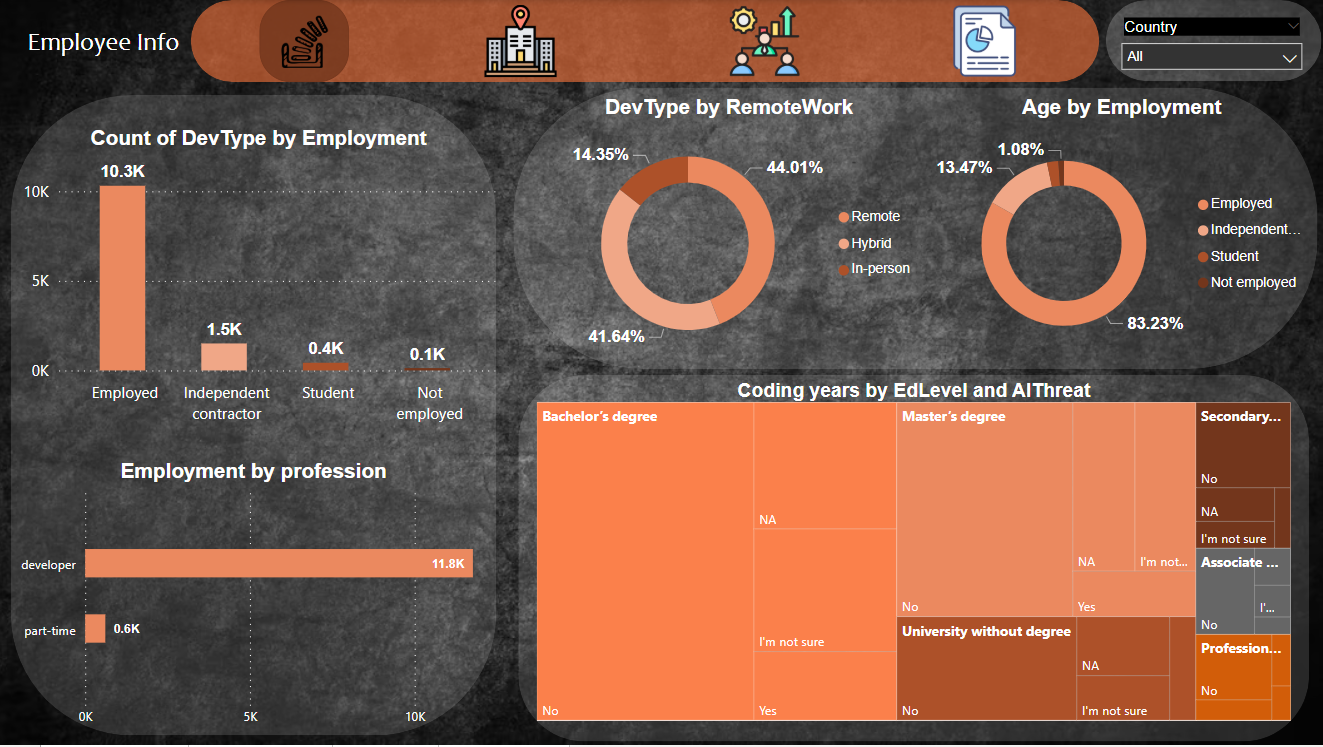

The page's visual inventory and layout, read from the dashboard file:
{"tool":"powerbi","page":{"name":"Employee info","canvas":[1280,720],"ordinal":0},"visuals":[{"type":"shape","box":[1070,0,208.3,78.3],"z":0,"group":"g1"},{"type":"shape","box":[503,362.2,763.1,353.5],"z":1000},{"type":"shape","box":[12.9,92,468.5,618],"z":2000},{"type":"shape","box":[497.7,84.8,776,271.6],"z":3000},{"type":"shape","box":[186.8,0,876.6,79],"z":4000},{"type":"image","box":[465.6,0,79,79],"z":5000},{"type":"image","box":[686.9,0,106.3,79],"z":6000},{"type":"image","box":[896.8,0,110.7,79],"z":7000},{"type":"image","box":[252.9,0,86.2,79],"z":8000},{"type":"donutChart","title":"DevType by RemoteWork","fields":{"Y":["CountNonNull(survey_results_public.DevType)"],"Category":["survey_results_public.RemoteWork"]},"box":[517.8,92,378,268.7],"z":9000},{"type":"donutChart","title":"Age by Employment","fields":{"Y":["Sum(survey_results_public.Age)"],"Category":["survey_results_public.Employment"]},"box":[895.8,92,378,268.7],"z":10000},{"type":"barChart","title":"Employment by profession","fields":{"Category":["survey_results_public.profession"],"Y":["CountNonNull(survey_results_public.Employment)"]},"box":[12.9,442.6,468.5,267.3],"z":11000},{"type":"lineClusteredColumnComboChart","fields":{"Y":["CountNonNull(survey_results_public.DevType)"],"Category":["survey_results_public.Employment"]},"box":[18.7,122.2,468.5,294.6],"z":12000},{"type":"treemap","title":"Coding years by EdLevel and AIThreat","fields":{"Values":["CountNonNull(survey_results_public.Coding years)"],"Group":["survey_results_public.EdLevel"],"Details":["survey_results_public.AIThreat"]},"box":[516,366.1,737.2,333.4],"z":13000},{"type":"slicer","title":"country Slicer","fields":{"Values":["survey_results_public.Country"]},"box":[1075,11.7,195,58.3],"z":14000,"group":"g1"},{"type":"group","id":"g1","title":"Slicer","box":[1070,0,208.3,78.3],"z":14001},{"type":"textbox","box":[24.1,20.5,168.8,72.4],"z":14002}]}

Visuals, with their boxes in screenshot pixels (x1, y1, x2, y2), scaled from the page's 1280x720 canvas onto the 1323x747 screenshot:
shape: box(1106, 0, 1321, 81)
shape: box(520, 376, 1309, 743)
shape: box(13, 95, 498, 737)
shape: box(514, 88, 1316, 370)
shape: box(193, 0, 1099, 82)
image: box(481, 0, 563, 82)
image: box(710, 0, 820, 82)
image: box(927, 0, 1041, 82)
image: box(261, 0, 350, 82)
"DevType by RemoteWork" donutChart: box(535, 95, 926, 374)
"Age by Employment" donutChart: box(926, 95, 1317, 374)
"Employment by profession" barChart: box(13, 459, 498, 737)
lineClusteredColumnComboChart - CountNonNull(survey_results_public.DevType) x survey_results_public.Employment: box(19, 127, 504, 432)
"Coding years by EdLevel and AIThreat" treemap: box(533, 380, 1295, 726)
"country Slicer" slicer: box(1111, 12, 1313, 73)
"Slicer" group: box(1106, 0, 1321, 81)
textbox: box(25, 21, 199, 96)
